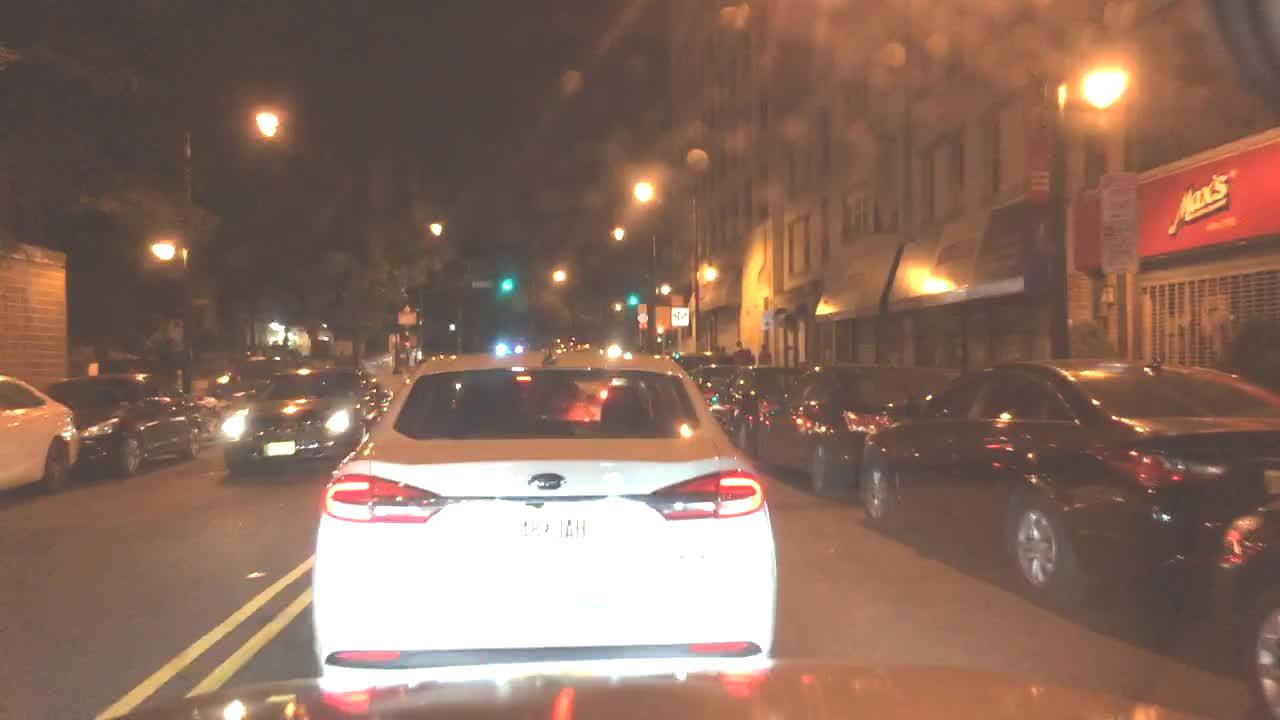ford: (530, 467, 578, 496)
